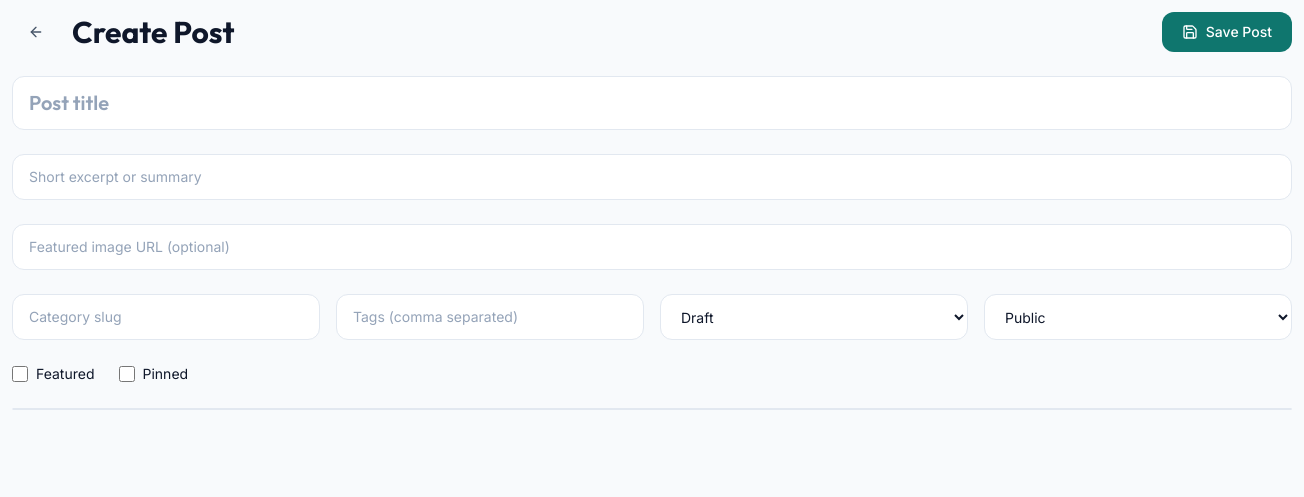
Test: AuthorEditorPage › shows default save error when the server omits a message
The image size is (1304, 497).
Type "New Title" into the field with placeholder "Post title" at {"x": 652, "y": 103}, box [12,76,1292,130]
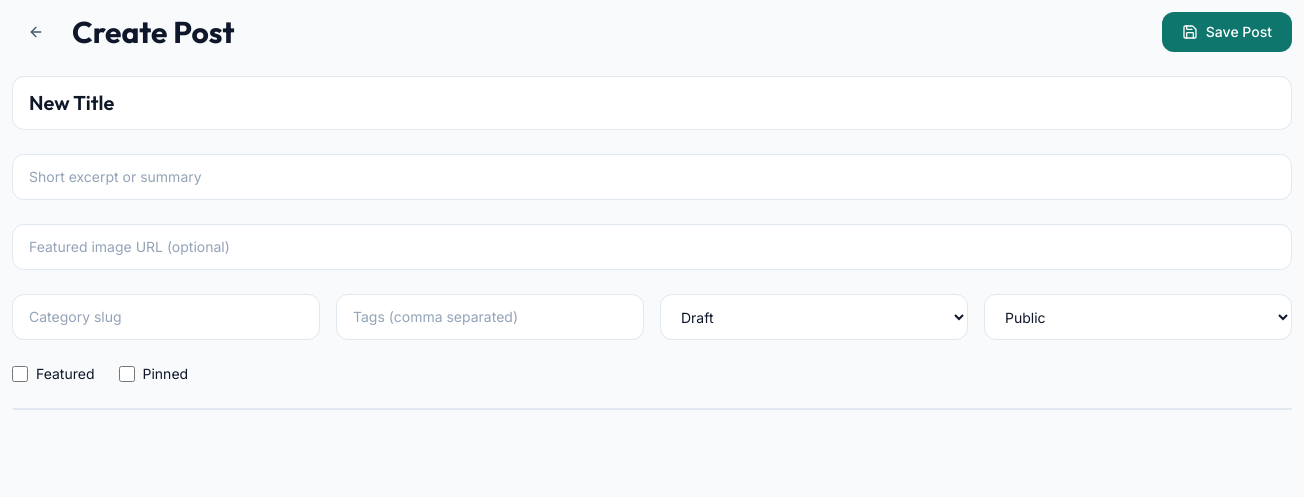
Click the button "Save Post" at {"x": 1227, "y": 32}, box [1162,12,1292,52]
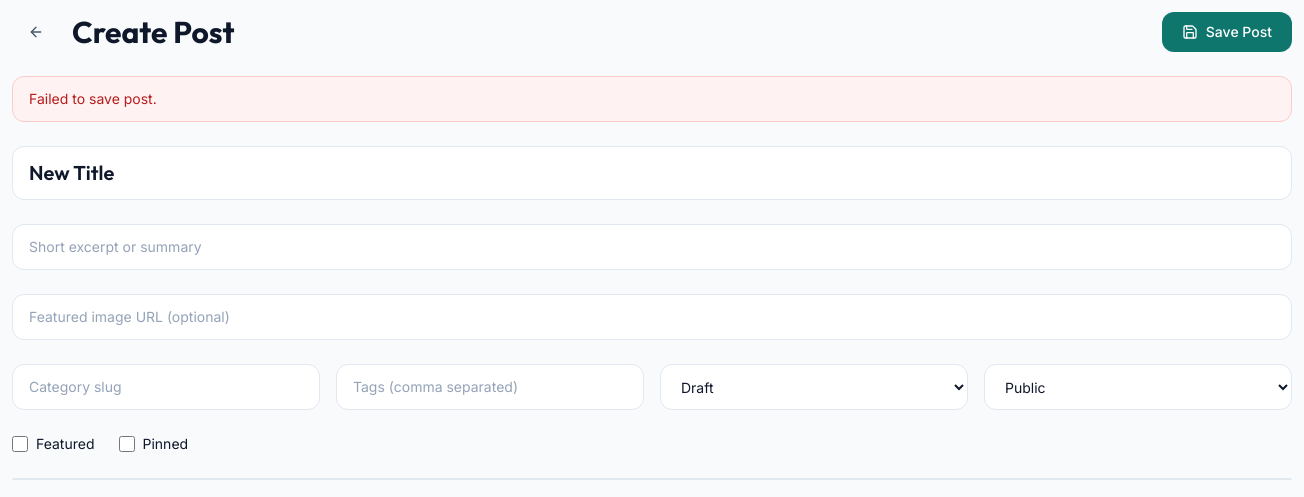
Result: the text "Failed to save post." is shown at [12,76,1292,122]
